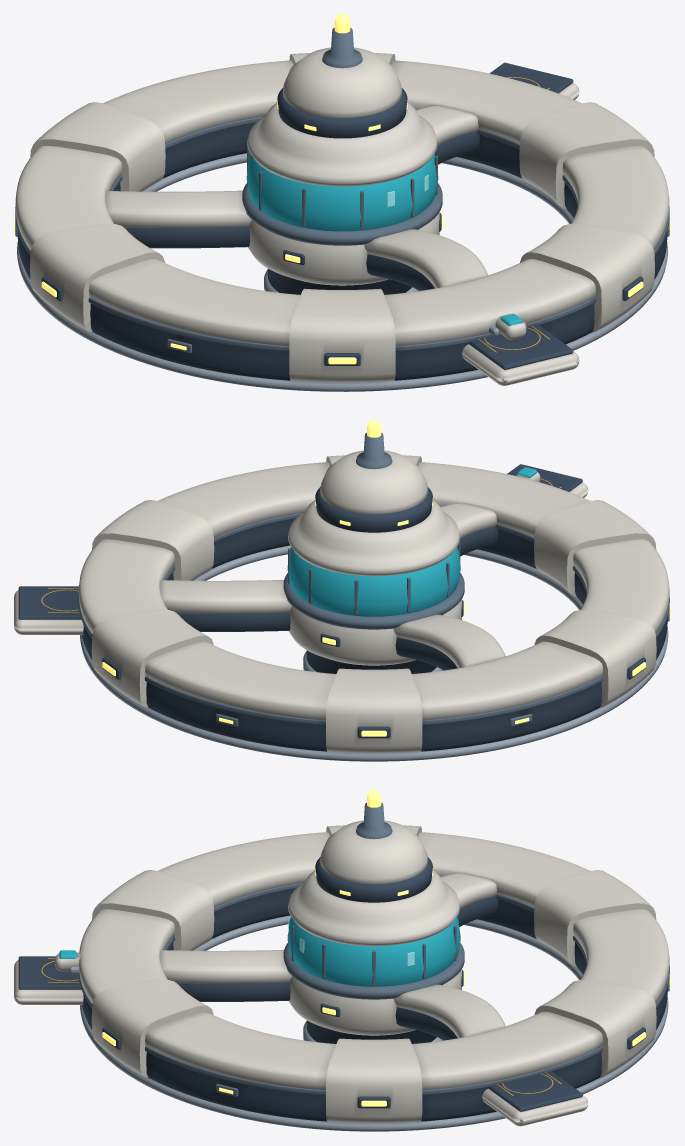
The model's file is galaxy_core.glb.
3 renders of one model, top to bottom at view 1: azimuth 30°, elevation 25°; view 2: azimuth 150°, elevation 25°; view 3: azimuth 270°, elevation 25°, orthographic. The views are drawn at different scales.
Parts seen in each view (by area): view 1: Structure; view 2: Structure; view 3: Structure.
Boxes of the visible parts, x1,y1,x2,y2 form: Structure: (14,14,670,391); Structure: (14,420,670,761); Structure: (14,790,670,1131).
Bounding box in the file's own units: 24.07 × 11.16 × 24.81.
